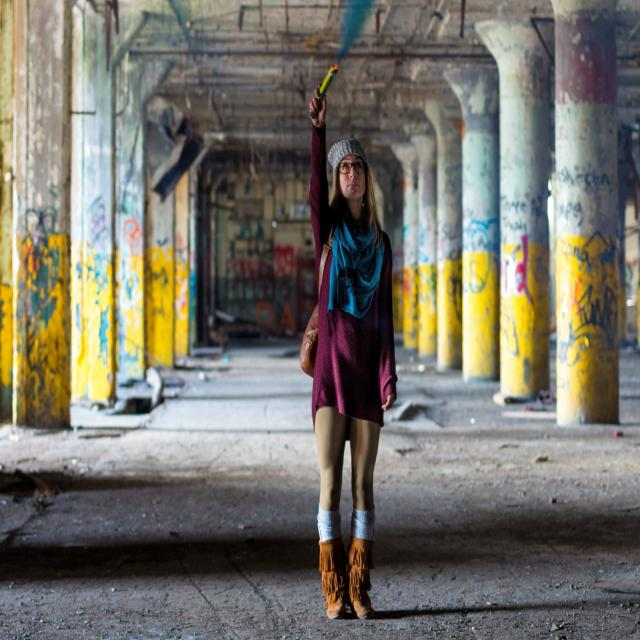standing: (303, 88, 403, 623)
